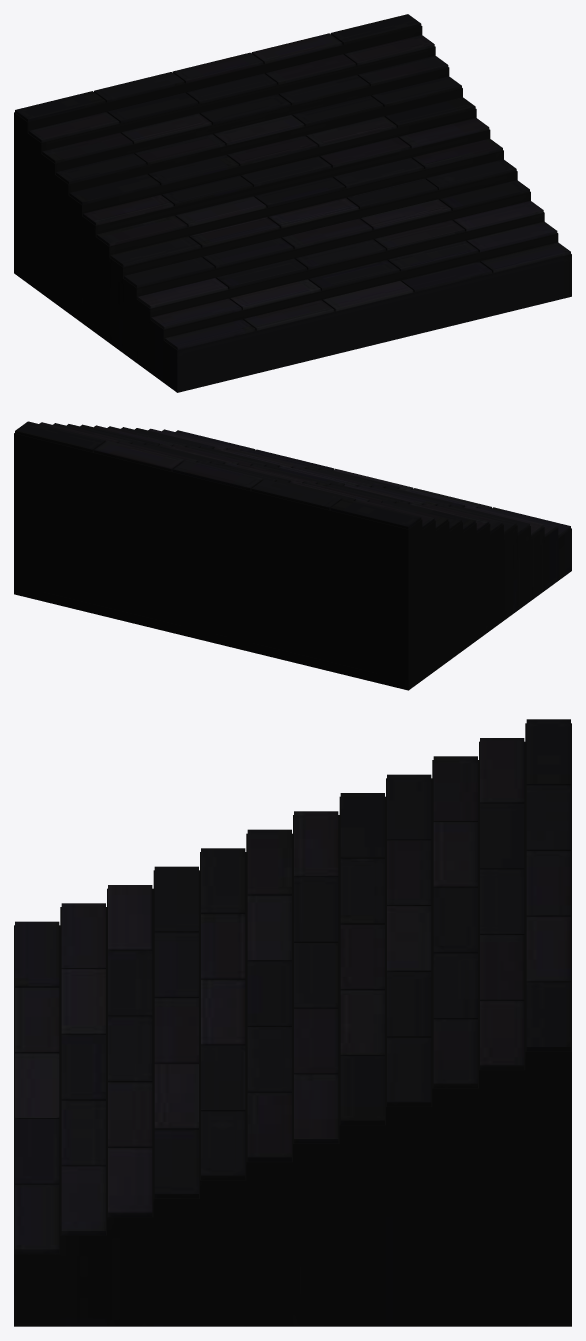
Rendered from entry_stairs.glb.
3 views of the same model, one above another, from view 1: azimuth 30°, elevation 25°; view 2: azimuth 150°, elevation 25°; view 3: azimuth 270°, elevation 25° (orthographic). The views are drawn at different scales.
Parts seen in each view (by area): view 1: entry_stairs.001; view 2: entry_stairs.001; view 3: entry_stairs.001.
Boxes of the visible parts, <box> form: entry_stairs.001: <box>14,14,571,392</box>; entry_stairs.001: <box>14,421,571,690</box>; entry_stairs.001: <box>14,719,571,1326</box>.
Bounding box in the file's own units: 4.6 × 1.82 × 3.3.
1 material, 1 textured.
